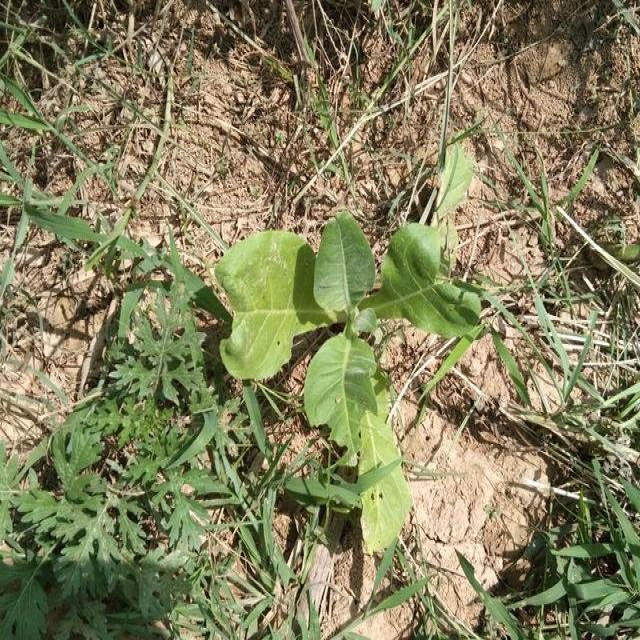crop: (228, 210, 464, 557)
